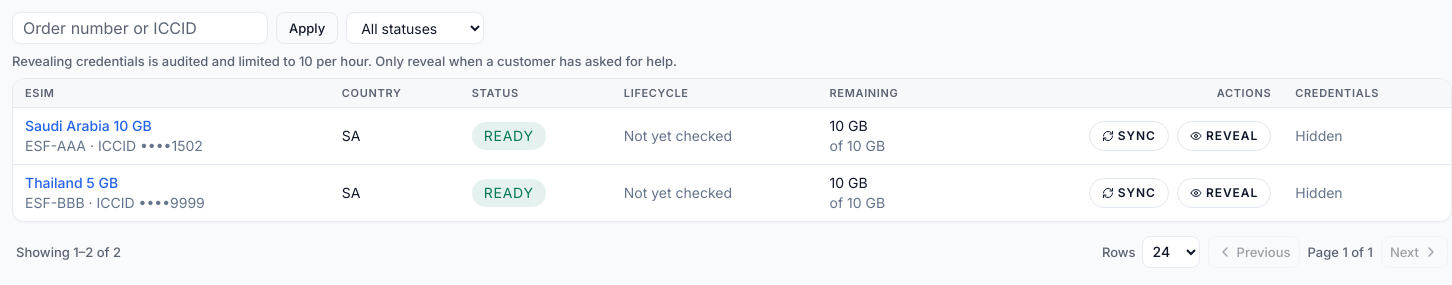
explicit reveal › reveals only the row the operator asked about
Check: the 1st link "Saudi Arabia 10 GB" is shown, box top-left (25, 116), bottom-right (152, 134)
Click the 3rd button named "reveal": (1224, 136) top-left (1177, 120), bottom-right (1271, 150)
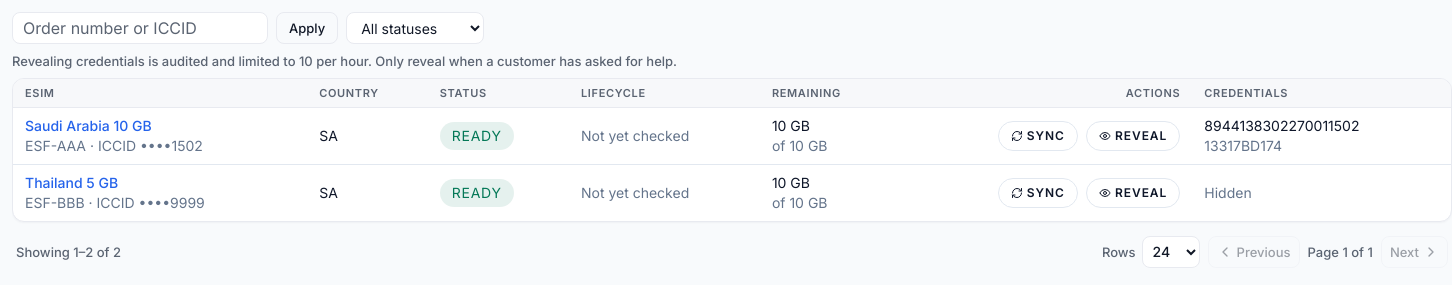
Check: the 9th text "13317BD174" is shown, box top-left (1204, 136), bottom-right (1282, 154)
Check: the text "Hidden" is shown once, box top-left (1204, 184), bottom-right (1252, 200)
